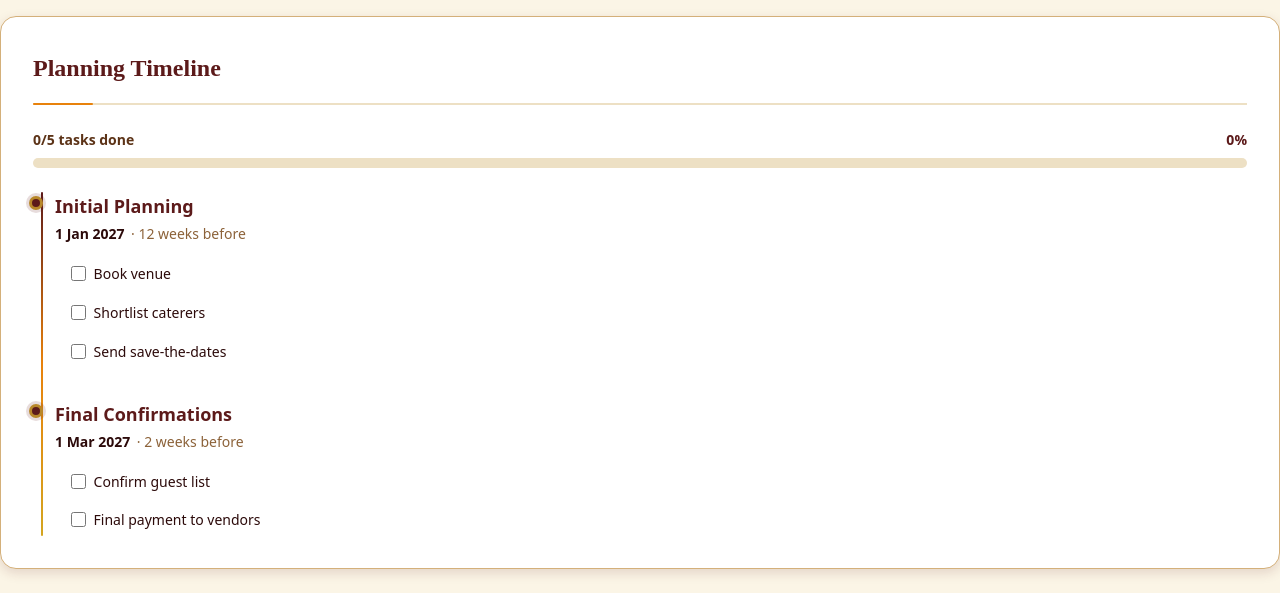
Scenario: Timeline › progress updates after checking tasks
Click the checkbox labelled "Book venue": (78, 274) [71, 266, 86, 281]
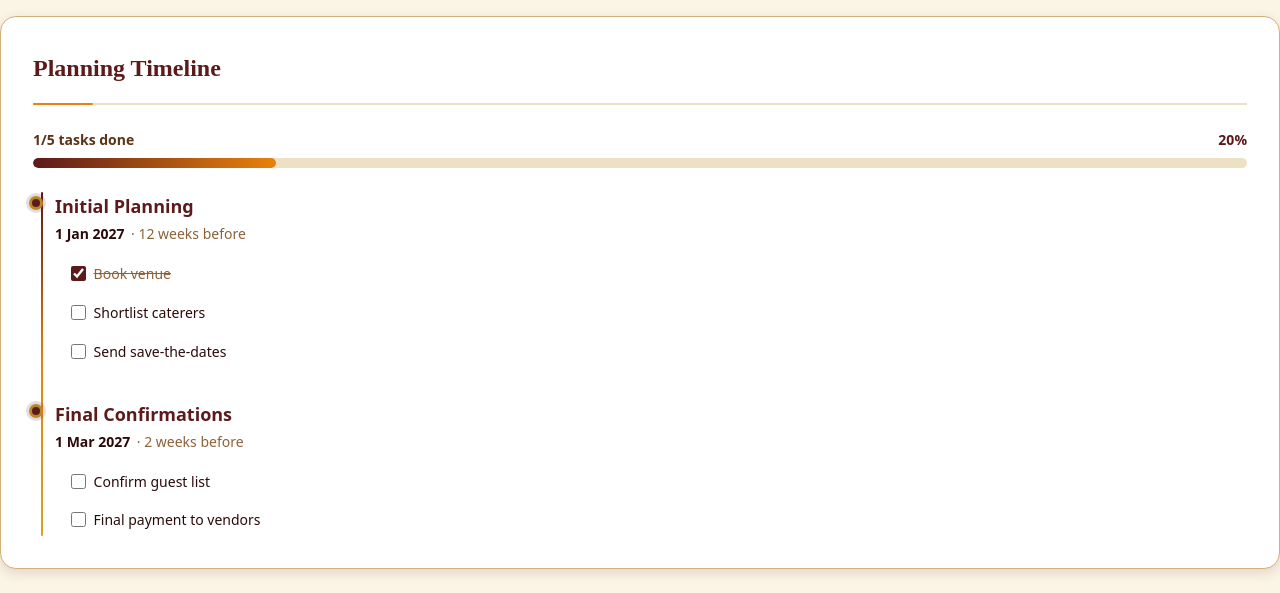
Expected: the text "1/5 tasks done" is shown, [33, 129, 134, 152]
